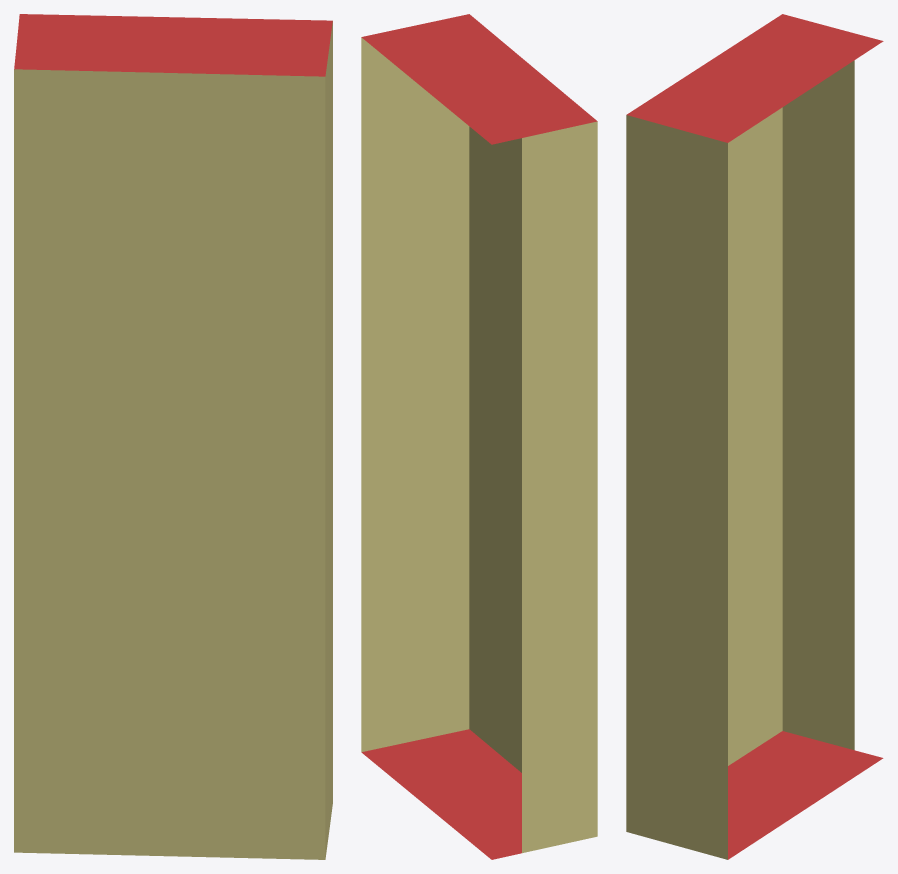
The picture shows the model from 3 angles, left to right: view 1: azimuth 30°, elevation 25°; view 2: azimuth 150°, elevation 25°; view 3: azimuth 270°, elevation 25°; orthographic projection. The views are drawn at different scales.
Parts seen in each view (by area): view 1: group_4, group_3; view 2: group_4, group_3, group_5; view 3: group_4, group_3, group_5.
Boxes of the visible parts, left/top/right/bottom form: group_4: left=14, top=21, right=332, bottom=859; group_3: left=14, top=14, right=332, bottom=76; group_4: left=361, top=37, right=597, bottom=853; group_3: left=361, top=14, right=597, bottom=144; group_5: left=361, top=729, right=521, bottom=859; group_4: left=626, top=60, right=854, bottom=859; group_3: left=626, top=14, right=883, bottom=142; group_5: left=728, top=731, right=883, bottom=859.
Size of the model in its own units: 6.32 by 5.33 by 16.36.
